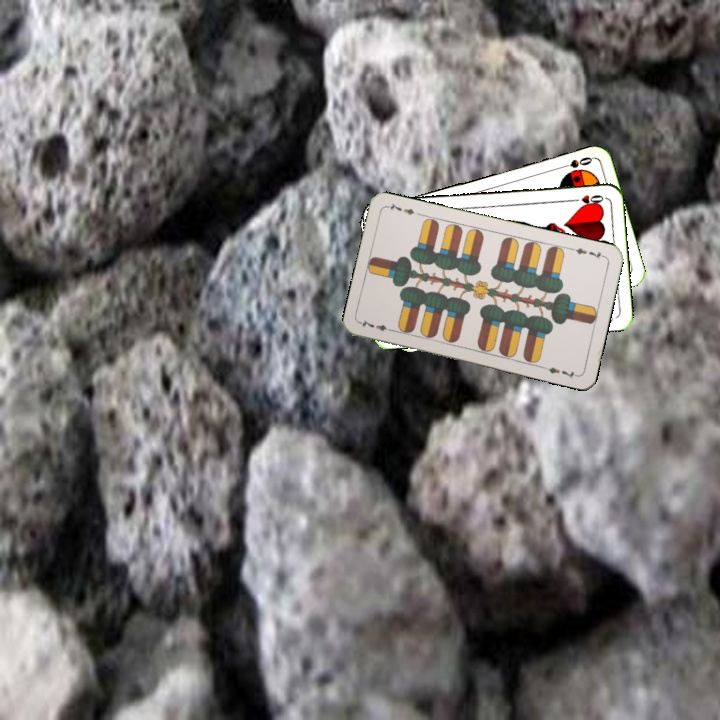E7: (357, 315, 397, 334), (567, 244, 608, 262)
HO: (566, 191, 606, 207)
SO: (555, 153, 595, 172)
